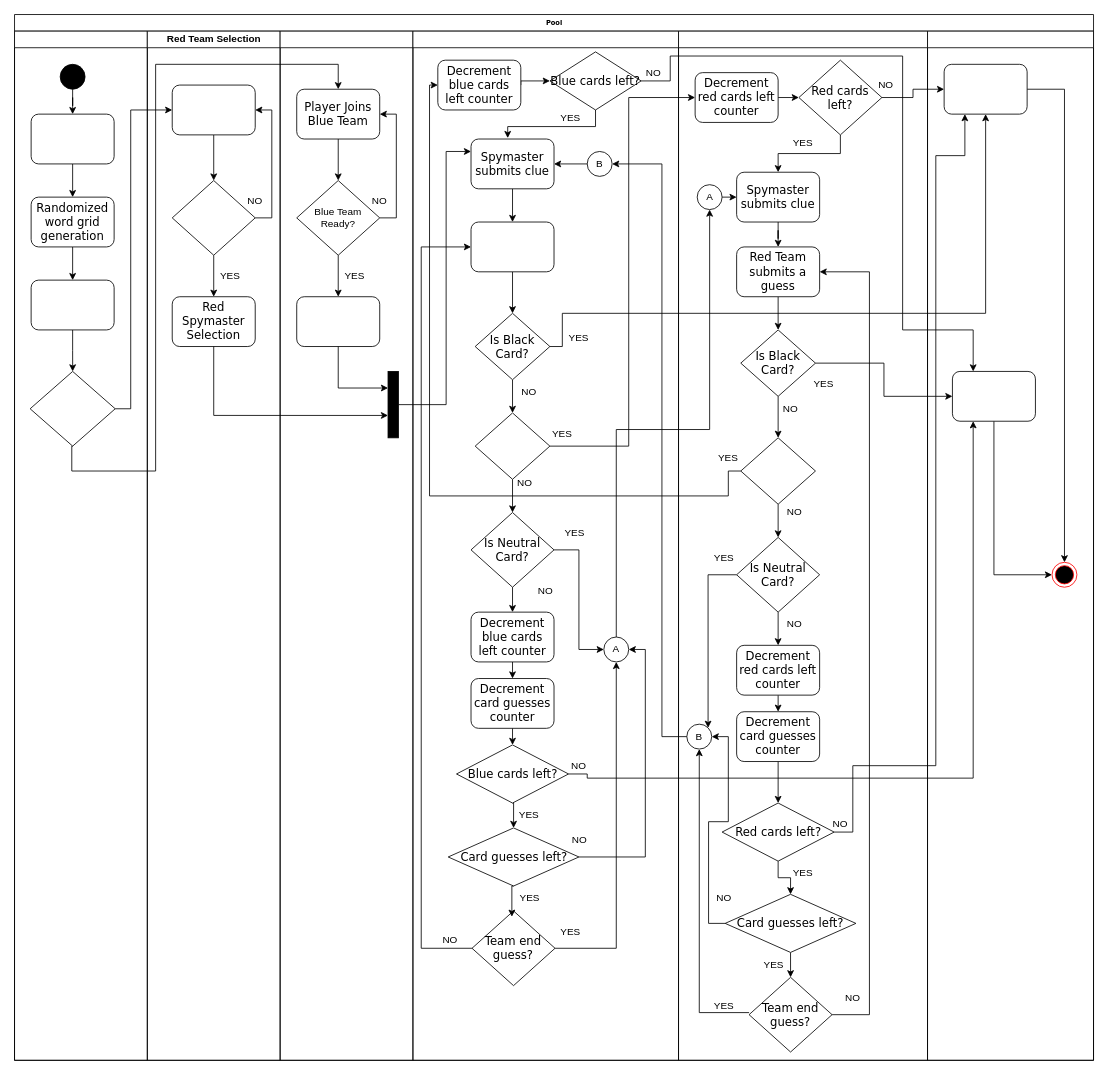
The diagram is 1108 pixels wide and 1075 high, and some of its shapes have lost their labels. The box of each missing label's shape, as (x1, y1, x2, y2) in pixels:
Blue Spymaster Selection: (296, 296, 380, 347)
Blue Team Selection: (279, 30, 413, 1060)
Blue Team submits a guess: (470, 221, 554, 272)
Blue Team Turn: (412, 30, 679, 1060)
Blue Team Wins: (952, 371, 1035, 421)
Blue/Red Team?: (29, 371, 115, 446)
Game Over: (927, 30, 1094, 1060)
Is Blue Card?: (740, 437, 815, 504)
Is Red Card?: (474, 412, 550, 479)
Player Joins Red Team: (171, 84, 255, 135)
Players Join Session: (30, 279, 114, 330)
Red Team Ready?: (171, 180, 255, 255)
Red Team Turn: (678, 30, 928, 1060)
Red Team Wins: (943, 63, 1027, 114)
Session created: (30, 113, 114, 164)
Session Init: (14, 30, 147, 1060)
